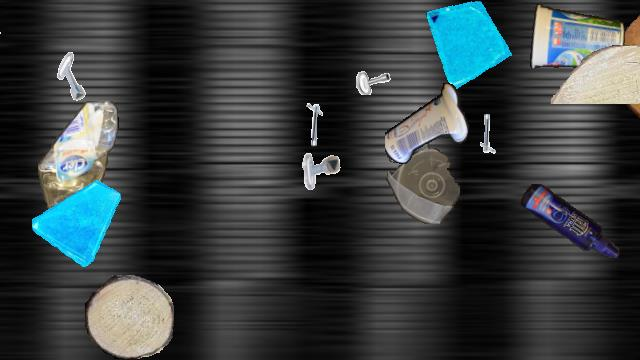glass: (425, 1, 517, 93), (32, 177, 122, 267)
metal: (293, 101, 347, 155), (344, 43, 396, 95), (49, 51, 99, 101), (457, 106, 507, 156), (300, 148, 342, 190), (0, 1, 5, 63)
plastic: (38, 101, 120, 247), (521, 184, 619, 258), (385, 81, 469, 167), (528, 1, 624, 71), (386, 135, 460, 223)
wood: (85, 275, 173, 359), (550, 45, 640, 103), (615, 1, 640, 129)
